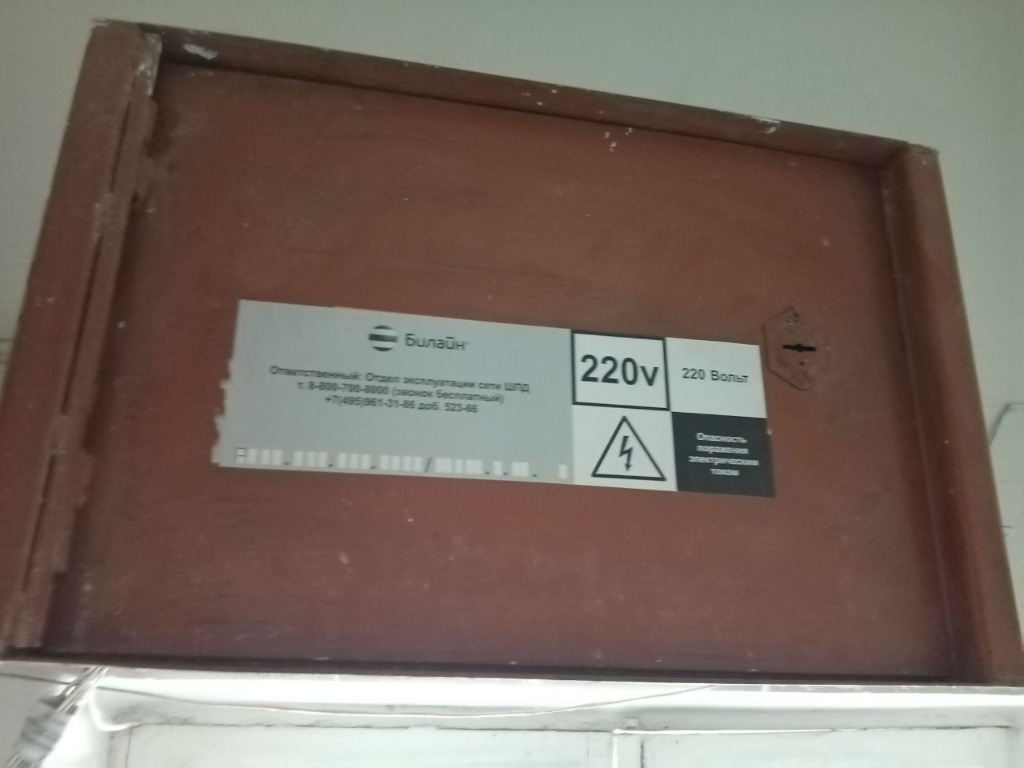e2-6u: (3, 14, 1023, 695)
